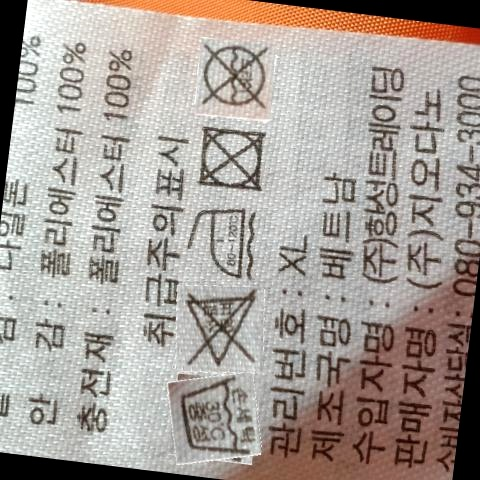DN_dry_clean: (197, 42, 274, 110)
DN_tumble_dry: (196, 124, 270, 192)
hand_wash: (175, 375, 262, 462)
iron_low: (190, 201, 260, 283)
non_chlorine_bleach: (188, 288, 263, 369)
